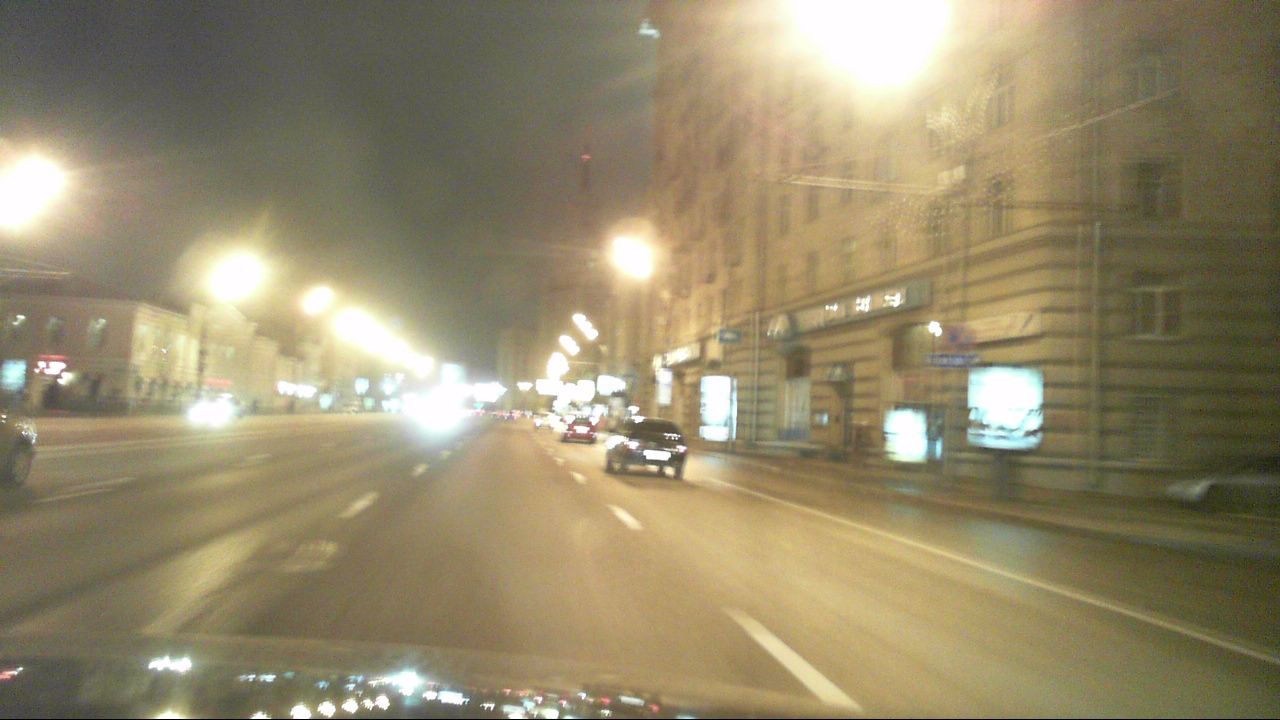No Parking: (944, 319, 976, 351)
